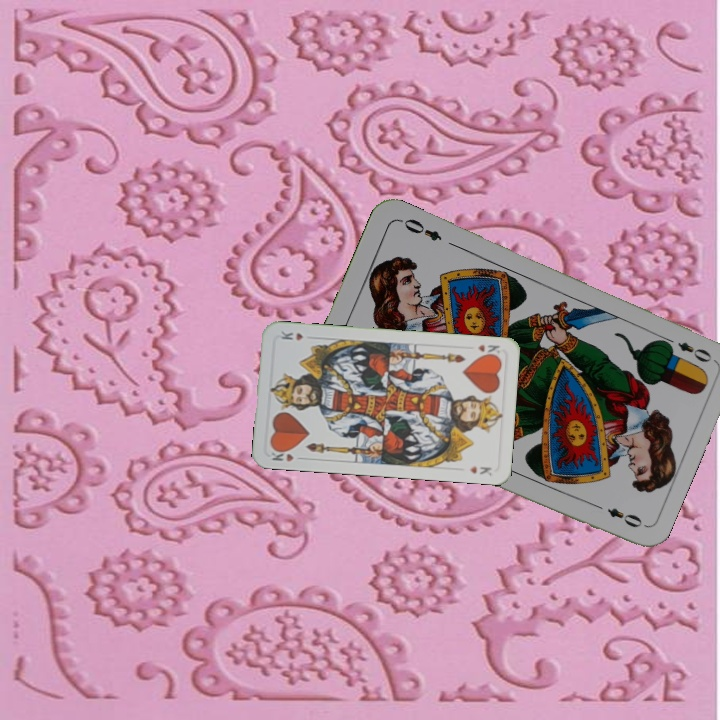EO: (659, 332, 715, 365)
HK: (473, 340, 502, 359), (267, 445, 296, 464)
